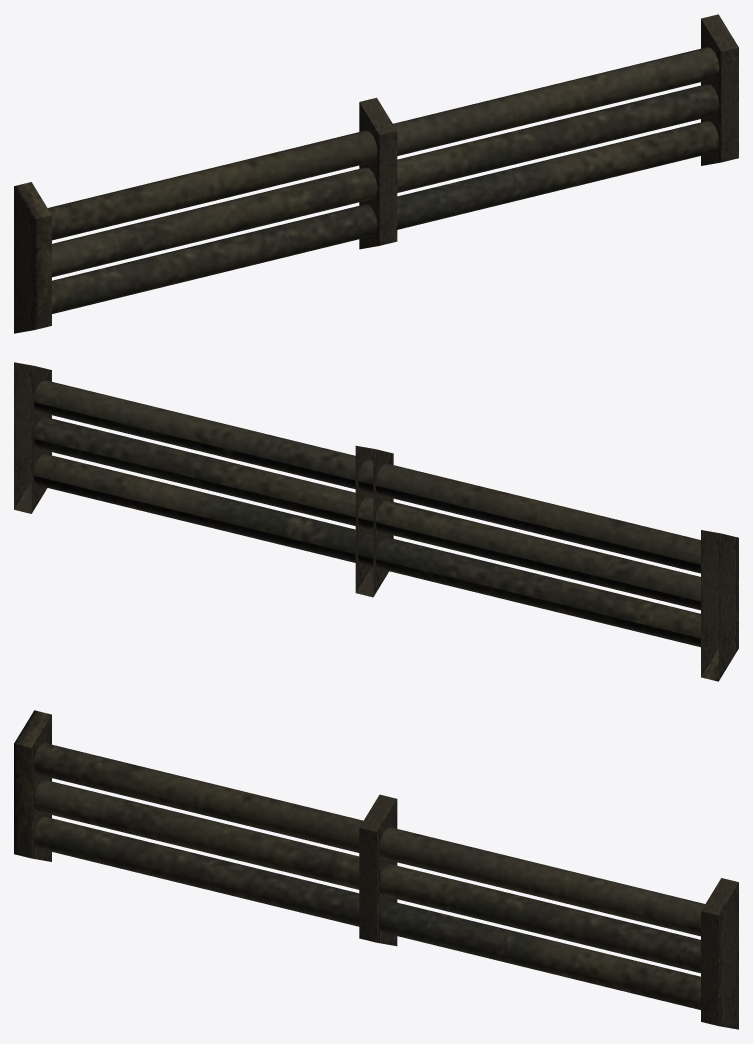
The model's file is pipes_hr_1_horizontal_middle_1.dae.
3 renders of one model, top to bottom at view 1: azimuth 30°, elevation 25°; view 2: azimuth 150°, elevation 25°; view 3: azimuth 330°, elevation 25°, orthographic.
Parts seen in each view (by area): view 1: pipes_hr_1_horizontal_middle_1; view 2: pipes_hr_1_horizontal_middle_1; view 3: pipes_hr_1_horizontal_middle_1.
Boxes of the visible parts, bbox=[...] form: pipes_hr_1_horizontal_middle_1: bbox=[14, 14, 738, 333]; pipes_hr_1_horizontal_middle_1: bbox=[14, 362, 738, 681]; pipes_hr_1_horizontal_middle_1: bbox=[14, 710, 738, 1029].
Bounding box in the file's own units: 2 × 0.1 × 0.4.
Materials: 1 (1 with a texture image).
